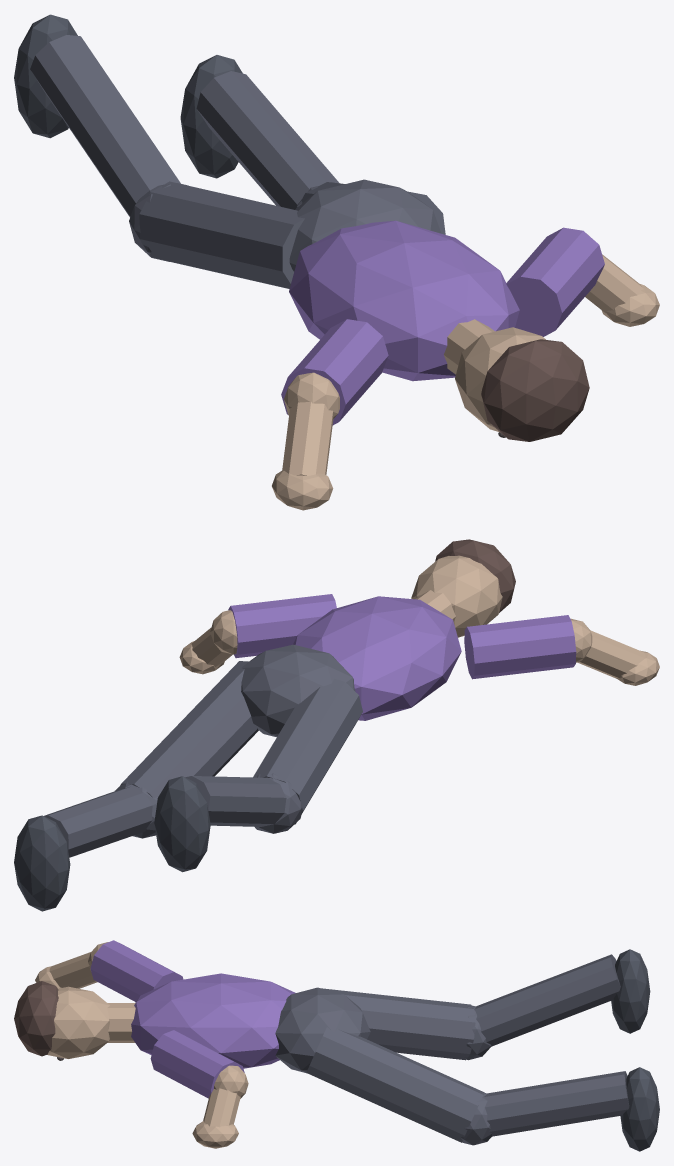
3 views of the same model, one above another, from view 1: azimuth 30°, elevation 25°; view 2: azimuth 150°, elevation 25°; view 3: azimuth 270°, elevation 25° (orthographic). The views are drawn at different scales.
Visible parts, largest first — view 1: world; view 2: world; view 3: world.
Boxes of the visible parts, x1=… form: world: x1=14, y1=14, x2=659, y2=510; world: x1=14, y1=539, x2=659, y2=911; world: x1=14, y1=940, x2=659, y2=1151.
Bounding box in the file's own units: 1.25 × 0.5125 × 2.07.
